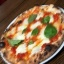basil: (44, 21, 55, 40), (5, 38, 26, 47), (25, 13, 39, 23), (30, 29, 40, 38), (40, 17, 52, 24)
pizza: (4, 5, 63, 62)
